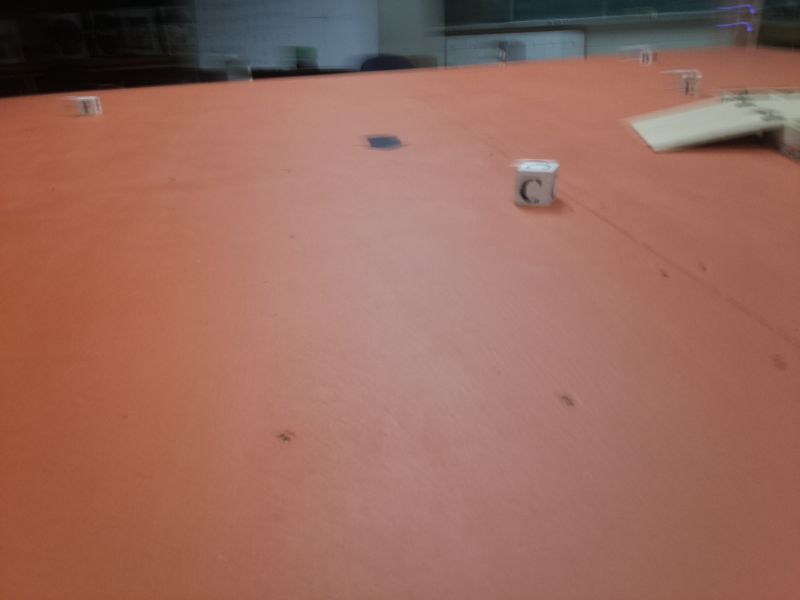blockB: (640, 46, 658, 71)
blockC: (516, 153, 558, 210)
blockE: (681, 72, 707, 100)
blockF: (76, 99, 105, 116)
corner: (734, 1, 762, 54)
side: (782, 114, 800, 159)
slope: (633, 98, 776, 157)
start: (359, 128, 409, 153)
